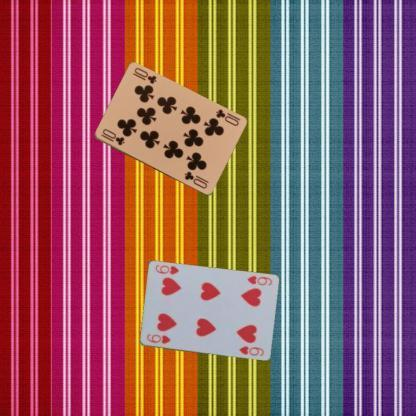10c: (98, 126, 126, 147), (213, 106, 240, 127)
6h: (244, 273, 273, 287), (144, 332, 172, 346)
